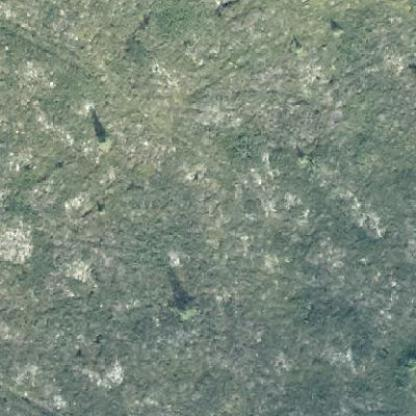tree-top: (170, 296, 196, 320), (94, 132, 111, 151)
